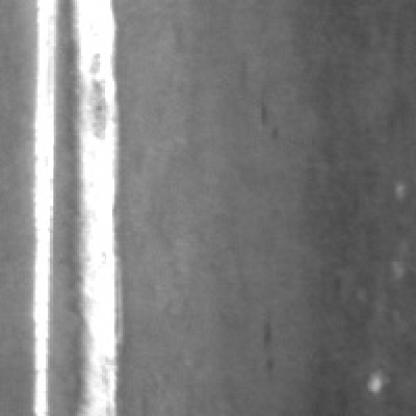inclusion: (254, 314, 278, 372)
scratches: (66, 0, 122, 412), (27, 0, 56, 412)
